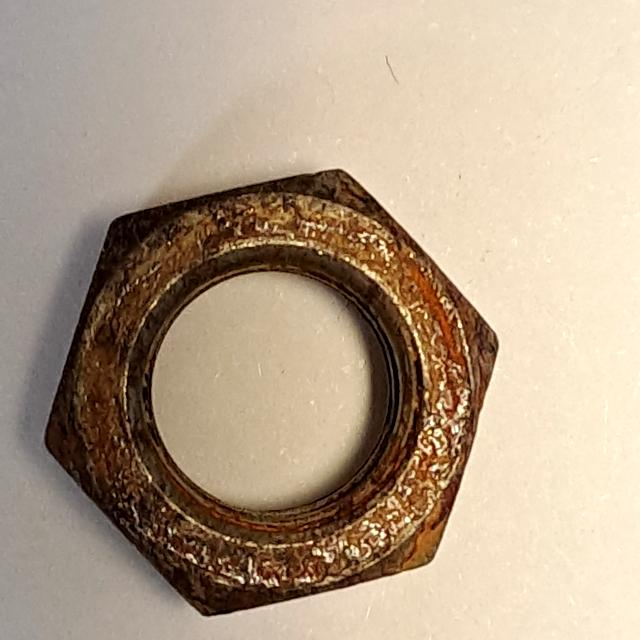Rust: (32, 152, 513, 628)
